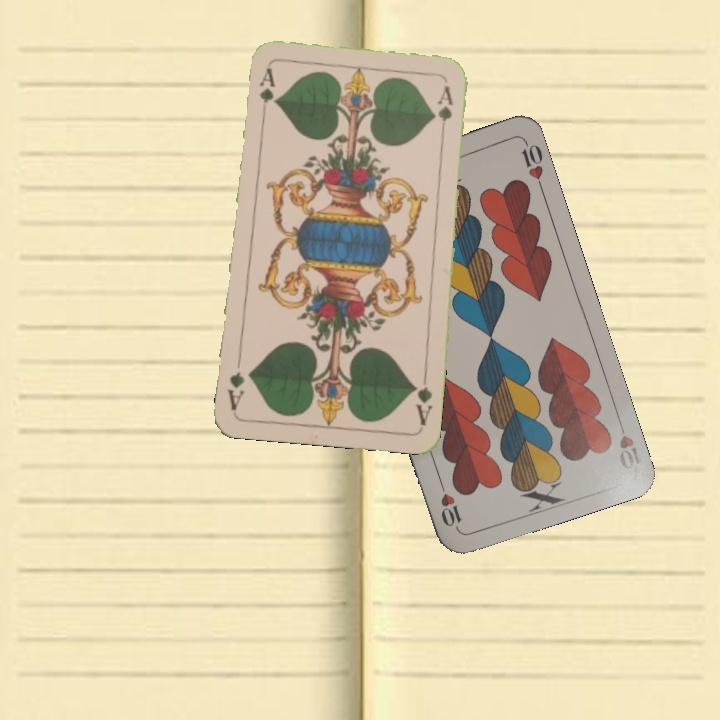GA: (409, 369, 435, 429), (255, 64, 277, 123)
H10: (613, 413, 643, 472)
